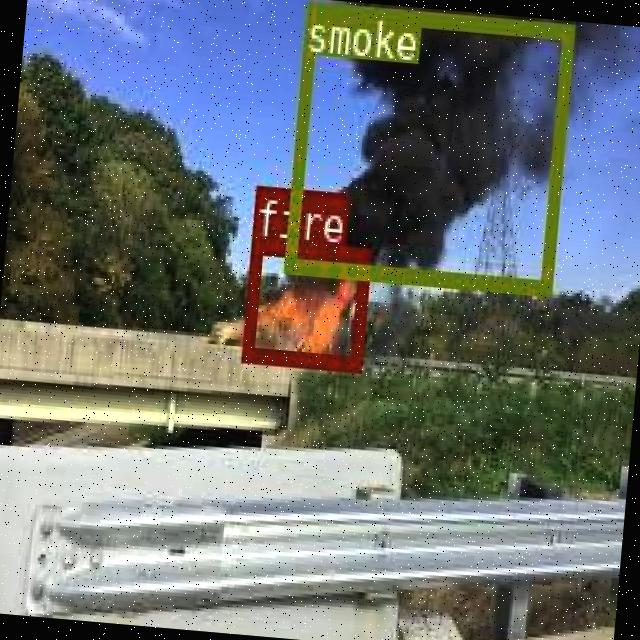fire: (239, 235, 367, 366)
smoke: (281, 0, 571, 291)
